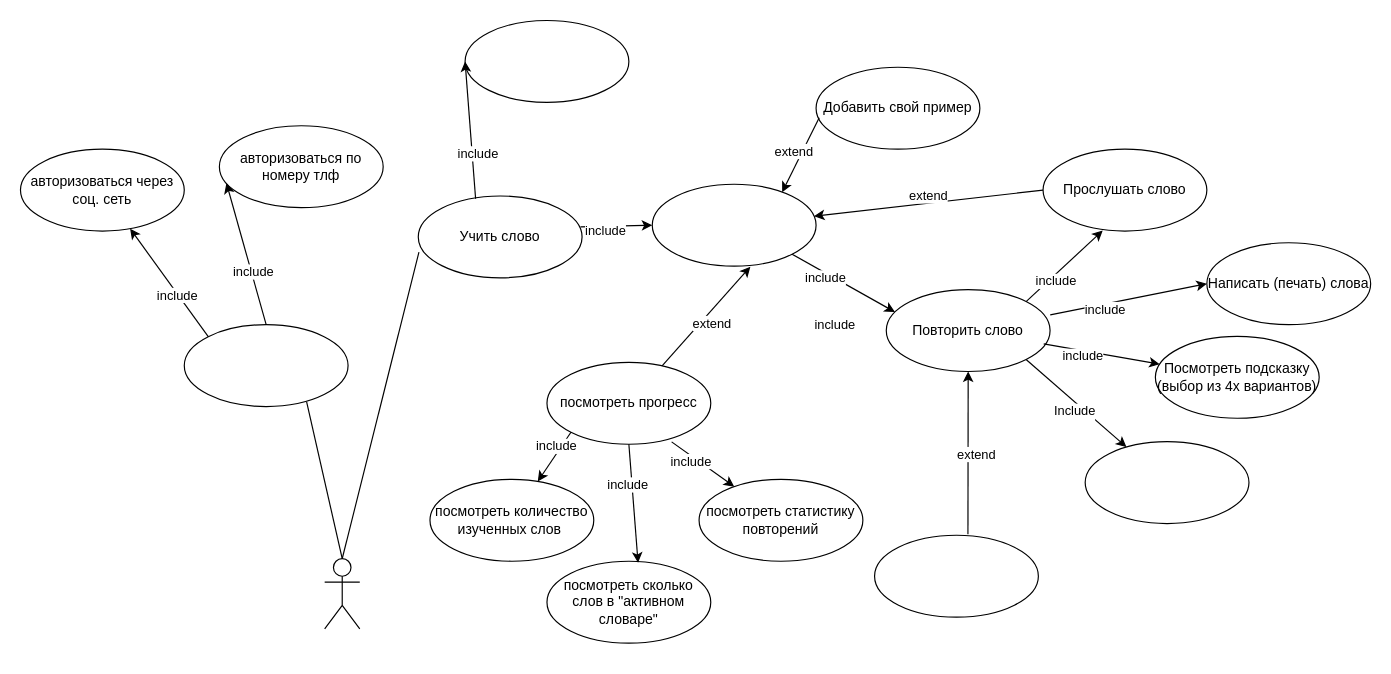
Image size: 1391x674. Some labels were removed from this diagram. The shapes that lost their labels are listed below. From the top down, each one's box as (x1, y1, x2, y2) in pixels, then its label:
(464, 19, 629, 102): Выбрать язык
(651, 183, 816, 266): Добавить слово
(183, 324, 348, 407): Авторизоваться
(1084, 441, 1249, 524): Посмотреть пример употребления слова
(324, 558, 360, 629): Пользователь
(873, 534, 1038, 617): Убрать слово в архив
